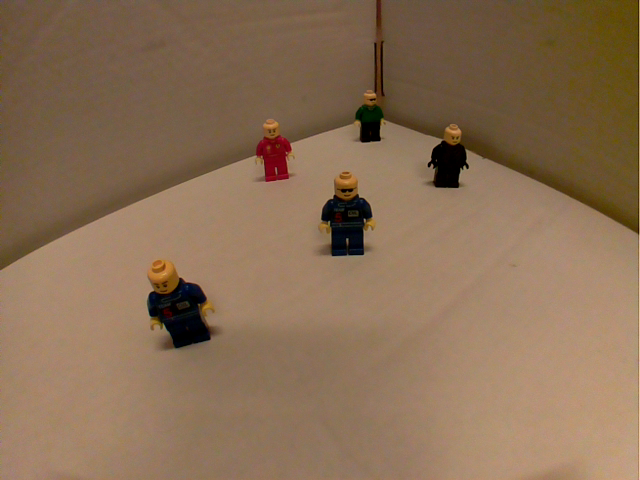Postac LEGO: (141, 254, 220, 353), (314, 168, 382, 263), (248, 115, 306, 188), (424, 117, 475, 194), (349, 86, 392, 147)
